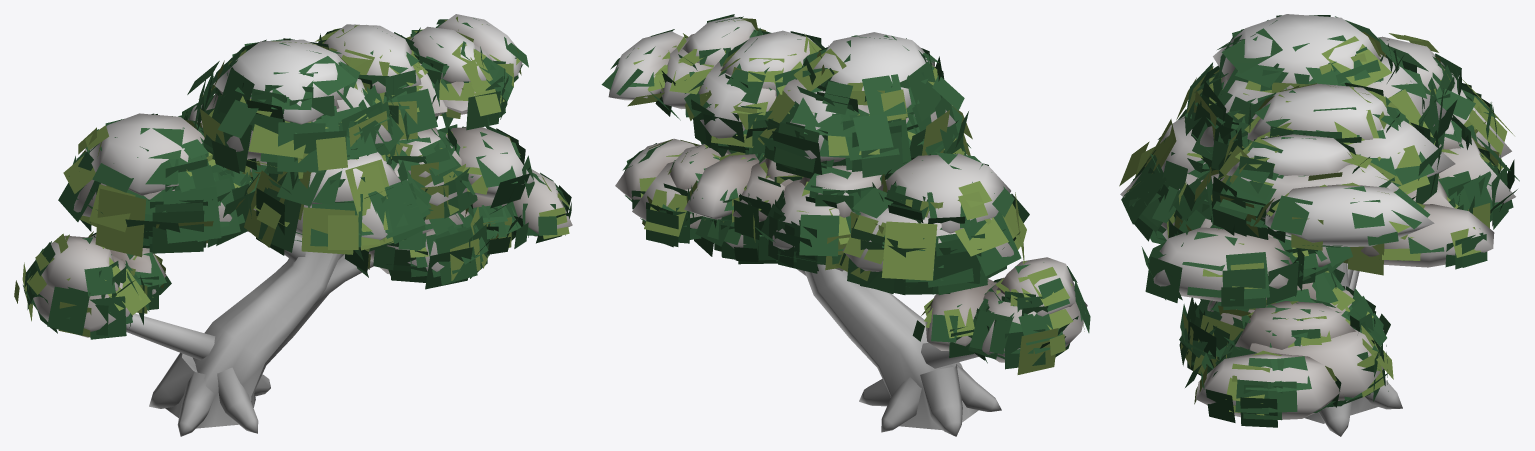
File: sf_cypress_a.glb
3 renders of one model, left to right at view 1: azimuth 30°, elevation 25°; view 2: azimuth 150°, elevation 25°; view 3: azimuth 270°, elevation 25°, orthographic. The views are drawn at different scales.
Visible parts, largest first — view 1: Cypress_Leaves, Cypress_Crown, Cypress_Trunk; view 2: Cypress_Leaves, Cypress_Crown, Cypress_Trunk; view 3: Cypress_Leaves, Cypress_Crown, Cypress_Trunk.
Boxes of the visible parts, box(x1,y1,x2,y2) form: Cypress_Leaves: box(14, 16, 571, 339); Cypress_Crown: box(33, 14, 572, 337); Cypress_Trunk: box(126, 231, 373, 436); Cypress_Leaves: box(601, 14, 1090, 374); Cypress_Crown: box(608, 16, 1087, 362); Cypress_Trunk: box(797, 264, 1001, 436); Cypress_Leaves: box(1119, 15, 1519, 427); Cypress_Crown: box(1120, 14, 1515, 419); Cypress_Trunk: box(1305, 262, 1402, 436).
Bounding box in the file's own units: 12.38 × 8.38 × 7.39.
